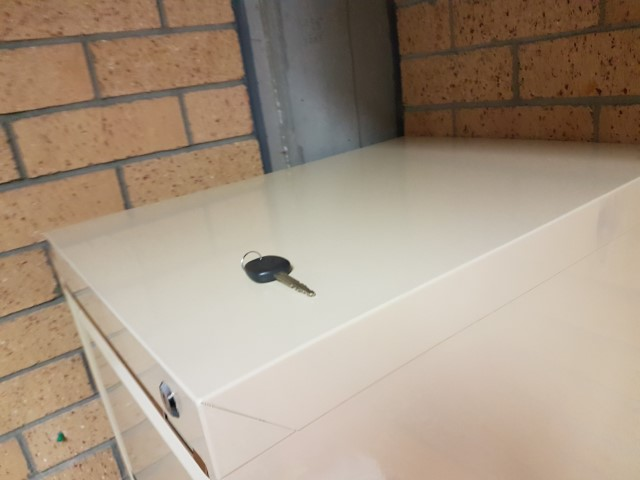key: (246, 254, 316, 298)
